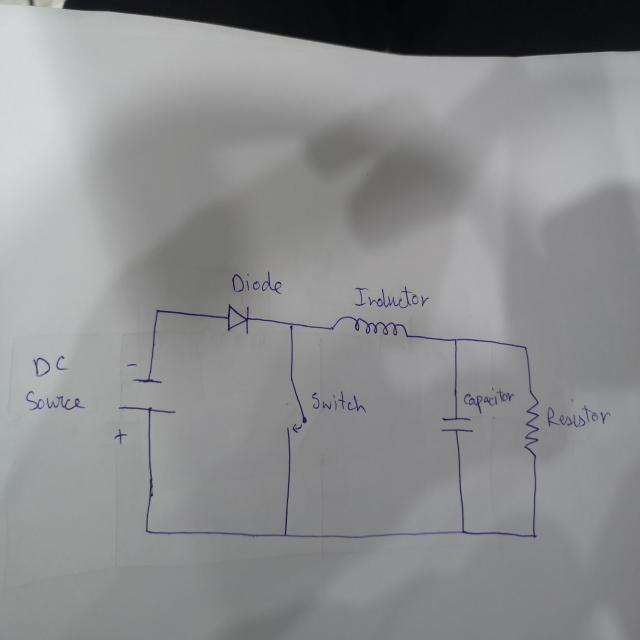capacitor: (440, 413, 475, 436)
diode: (224, 302, 250, 337)
inductor: (328, 312, 411, 340)
junction: (151, 304, 164, 318), (285, 318, 296, 334), (141, 523, 153, 537), (279, 528, 290, 541), (458, 524, 468, 538), (529, 528, 538, 541), (521, 342, 530, 353), (451, 335, 459, 345)
resistor: (523, 388, 542, 458)
source: (111, 360, 178, 446)
switch: (284, 375, 308, 435)
text: (544, 397, 612, 429), (352, 284, 427, 310), (310, 389, 369, 414), (24, 388, 85, 412), (229, 270, 282, 295), (461, 388, 515, 412), (31, 354, 68, 379)
